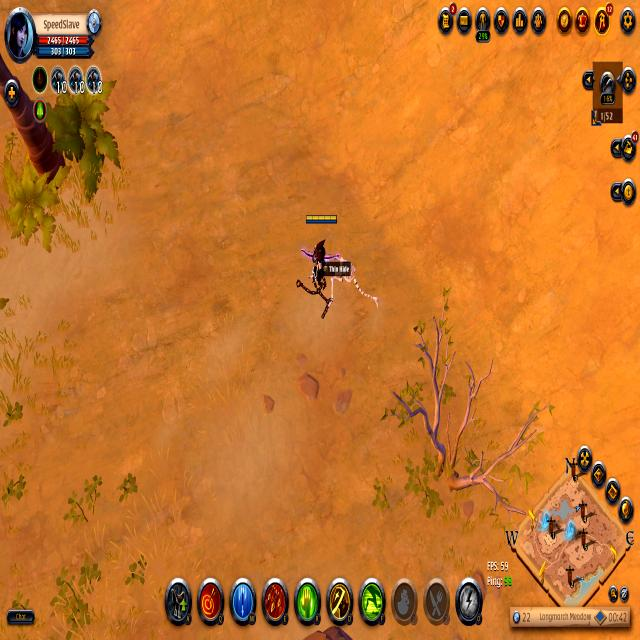ore: (303, 210, 339, 294)
